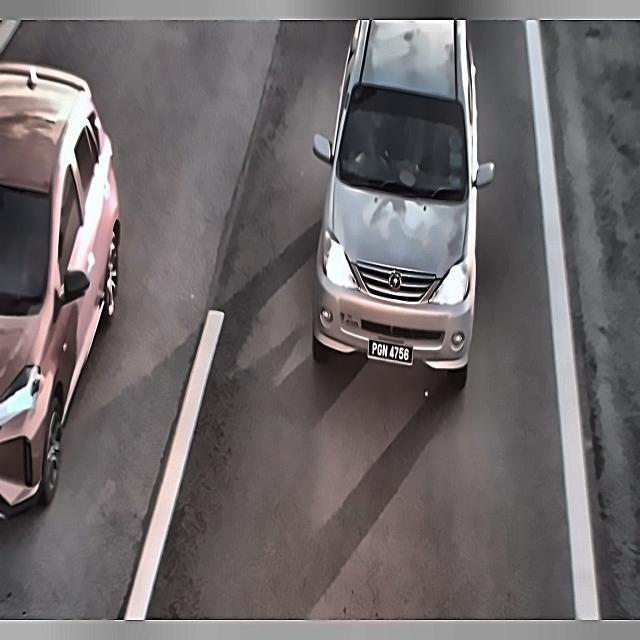car: (363, 335, 419, 372)
